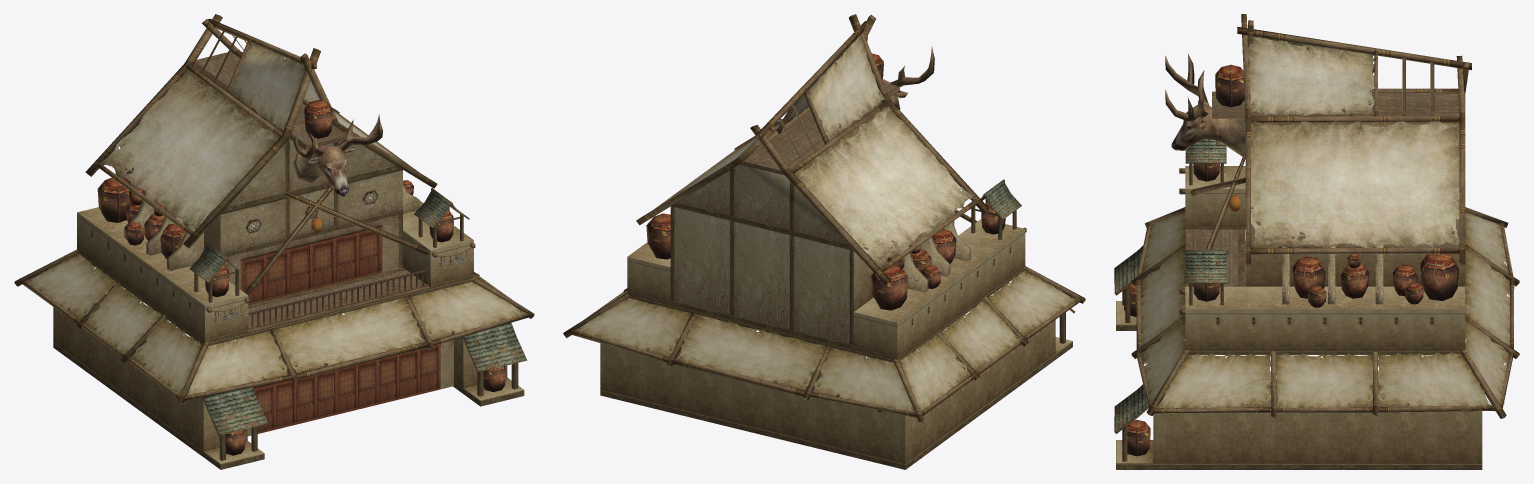
File: w_cd_etc.glb
3 views of the same model, side by side, from view 1: azimuth 30°, elevation 25°; view 2: azimuth 150°, elevation 25°; view 3: azimuth 270°, elevation 25° (orthographic). The views are drawn at different scales.
Visible parts, largest first — view 1: W_CD_etc_wall02, W_CD_etc_wall01, W_CD_etc_roof_01, W_CD_etc_roof, W_CD_etc_wall03, W_CD_etc_winlight, W_CD_etc_jar, W_CD_etc_deer, W_CD_etc_wall04; view 2: W_CD_etc_wall02, W_CD_etc_wall01, W_CD_etc_roof_01, W_CD_etc_roof, W_CD_etc_jar, W_CD_etc_deer; view 3: W_CD_etc_wall01, W_CD_etc_roof, W_CD_etc_roof_01, W_CD_etc_wall02, W_CD_etc_jar, W_CD_etc_deer, W_CD_etc_wall02_a.
Boxes of the visible parts, x1,y1,x2,y2 form: W_CD_etc_wall02: [14, 14, 534, 460]; W_CD_etc_wall01: [53, 51, 524, 469]; W_CD_etc_roof_01: [22, 253, 529, 398]; W_CD_etc_roof: [100, 43, 471, 321]; W_CD_etc_wall03: [240, 219, 440, 433]; W_CD_etc_winlight: [244, 191, 436, 415]; W_CD_etc_jar: [97, 100, 505, 455]; W_CD_etc_deer: [292, 114, 382, 196]; W_CD_etc_wall04: [248, 269, 428, 329]; W_CD_etc_wall02: [563, 14, 1085, 422]; W_CD_etc_wall01: [600, 82, 1072, 469]; W_CD_etc_roof_01: [571, 270, 1077, 412]; W_CD_etc_roof: [668, 35, 974, 268]; W_CD_etc_jar: [646, 53, 1005, 310]; W_CD_etc_deer: [866, 36, 934, 109]; W_CD_etc_wall01: [1116, 91, 1482, 469]; W_CD_etc_roof: [1245, 36, 1459, 247]; W_CD_etc_roof_01: [1140, 212, 1510, 411]; W_CD_etc_wall02: [1114, 14, 1519, 461]; W_CD_etc_jar: [1123, 64, 1458, 456]; W_CD_etc_deer: [1165, 53, 1245, 158]; W_CD_etc_wall02_a: [1402, 57, 1434, 116].
Bounding box in the file's own units: 21.04 × 18.85 × 18.68.
Materials: 10 (10 with a texture image).
